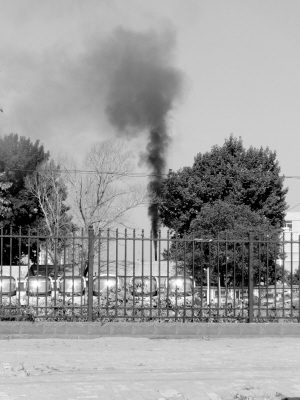dust: (111, 59, 188, 165)
